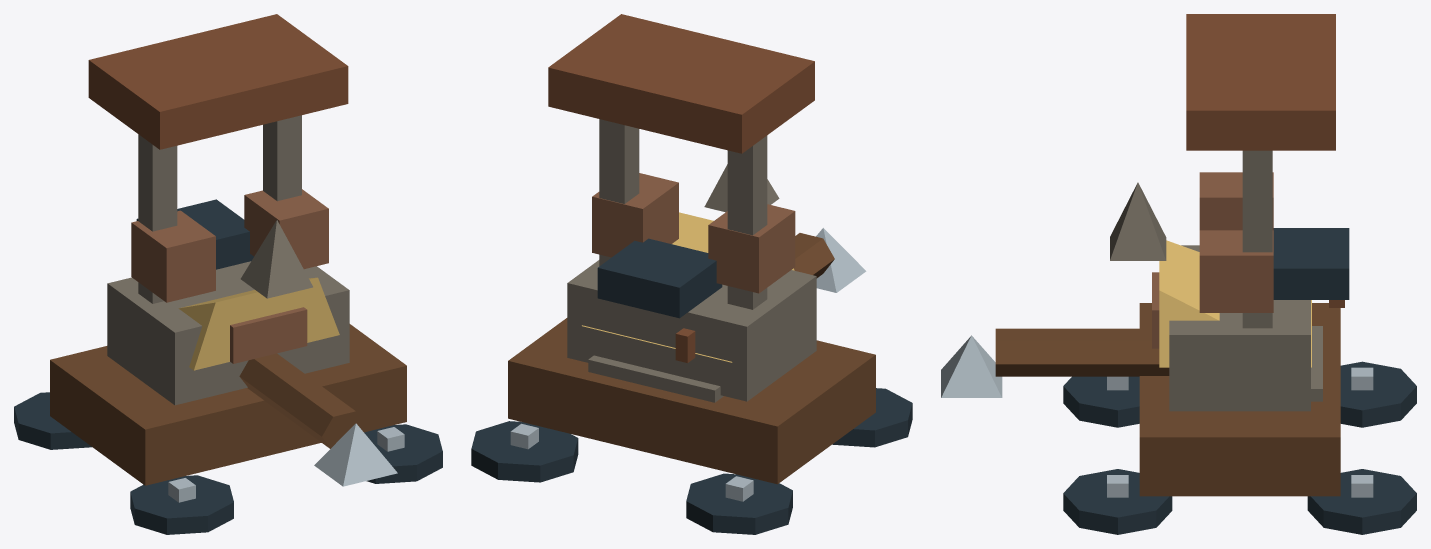
File: siege-tower.obj
3 views of the same model, side by side, from view 1: azimuth 30°, elevation 25°; view 2: azimuth 150°, elevation 25°; view 3: azimuth 270°, elevation 25° (orthographic). The views are drawn at different scales.
Visible parts, largest first — view 1: siege; view 2: siege; view 3: siege.
Part boxes in pixels (x1,y1,x2,y2): siege: [14, 14, 442, 534]; siege: [471, 14, 912, 534]; siege: [941, 14, 1416, 534].
Bounding box in the file's own units: 2.1 × 2.47 × 2.7.
